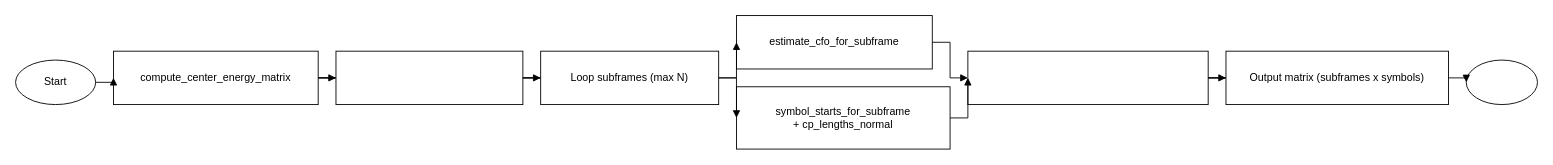
Image size: 1553x165. Some labels were removed from this diagram. Each missing label, with the centre of its shape:
"_center_band_mask (62 SC)" goes at point (429, 77).
"End" goes at point (1501, 82).
"Loop symbols: fft_symbol -> mean |F[mask]|" goes at point (1087, 77).
